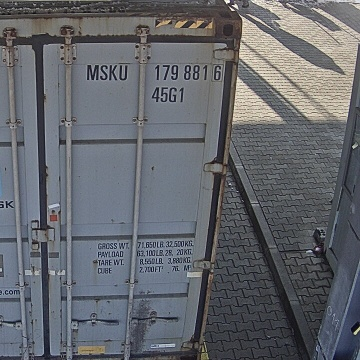serial_id: (87, 65, 221, 79)
